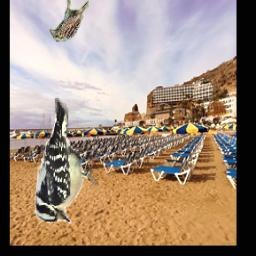Sparrow: (50, 0, 89, 42)
Woodpecker: (33, 98, 98, 225)
